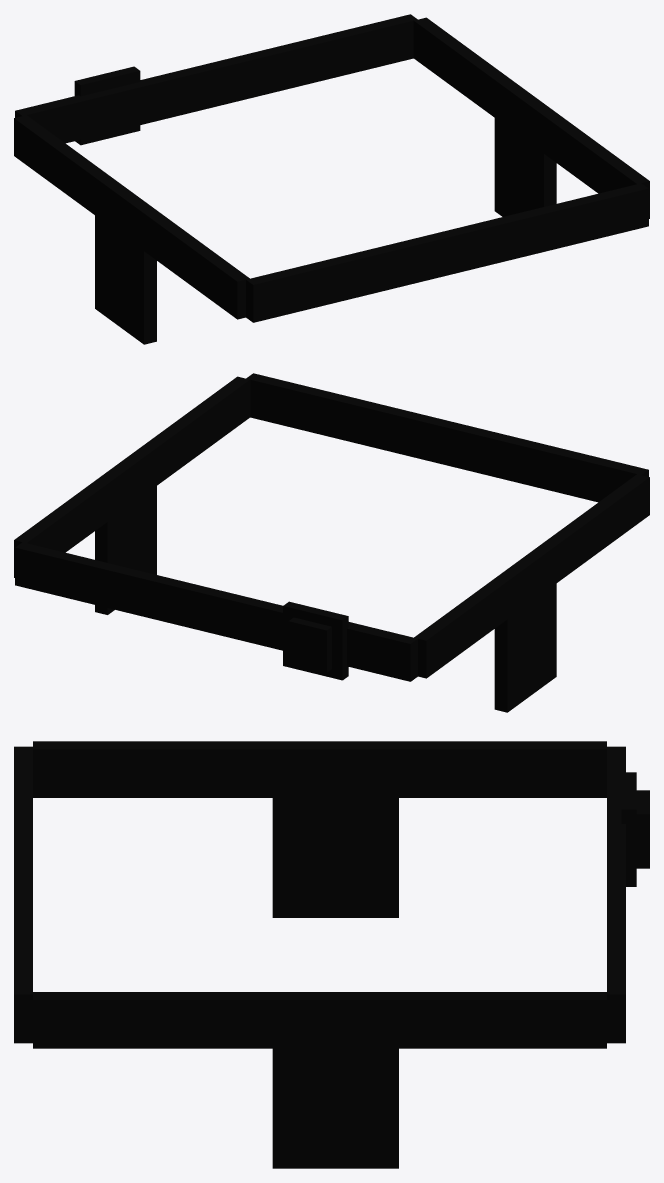
Rendered from xuantie_helmet.obj.
3 renders of one model, top to bottom at view 1: azimuth 30°, elevation 25°; view 2: azimuth 150°, elevation 25°; view 3: azimuth 270°, elevation 25°, orthographic. The views are drawn at different scales.
Parts seen in each view (by area): view 1: geometry; view 2: geometry; view 3: geometry.
Part boxes in pixels (x1,y1,x2,y2): geometry: [14, 14, 649, 344]; geometry: [14, 373, 649, 712]; geometry: [14, 741, 649, 1168].
Size of the model in its own units: 0.6062 by 0.2 by 0.63.
